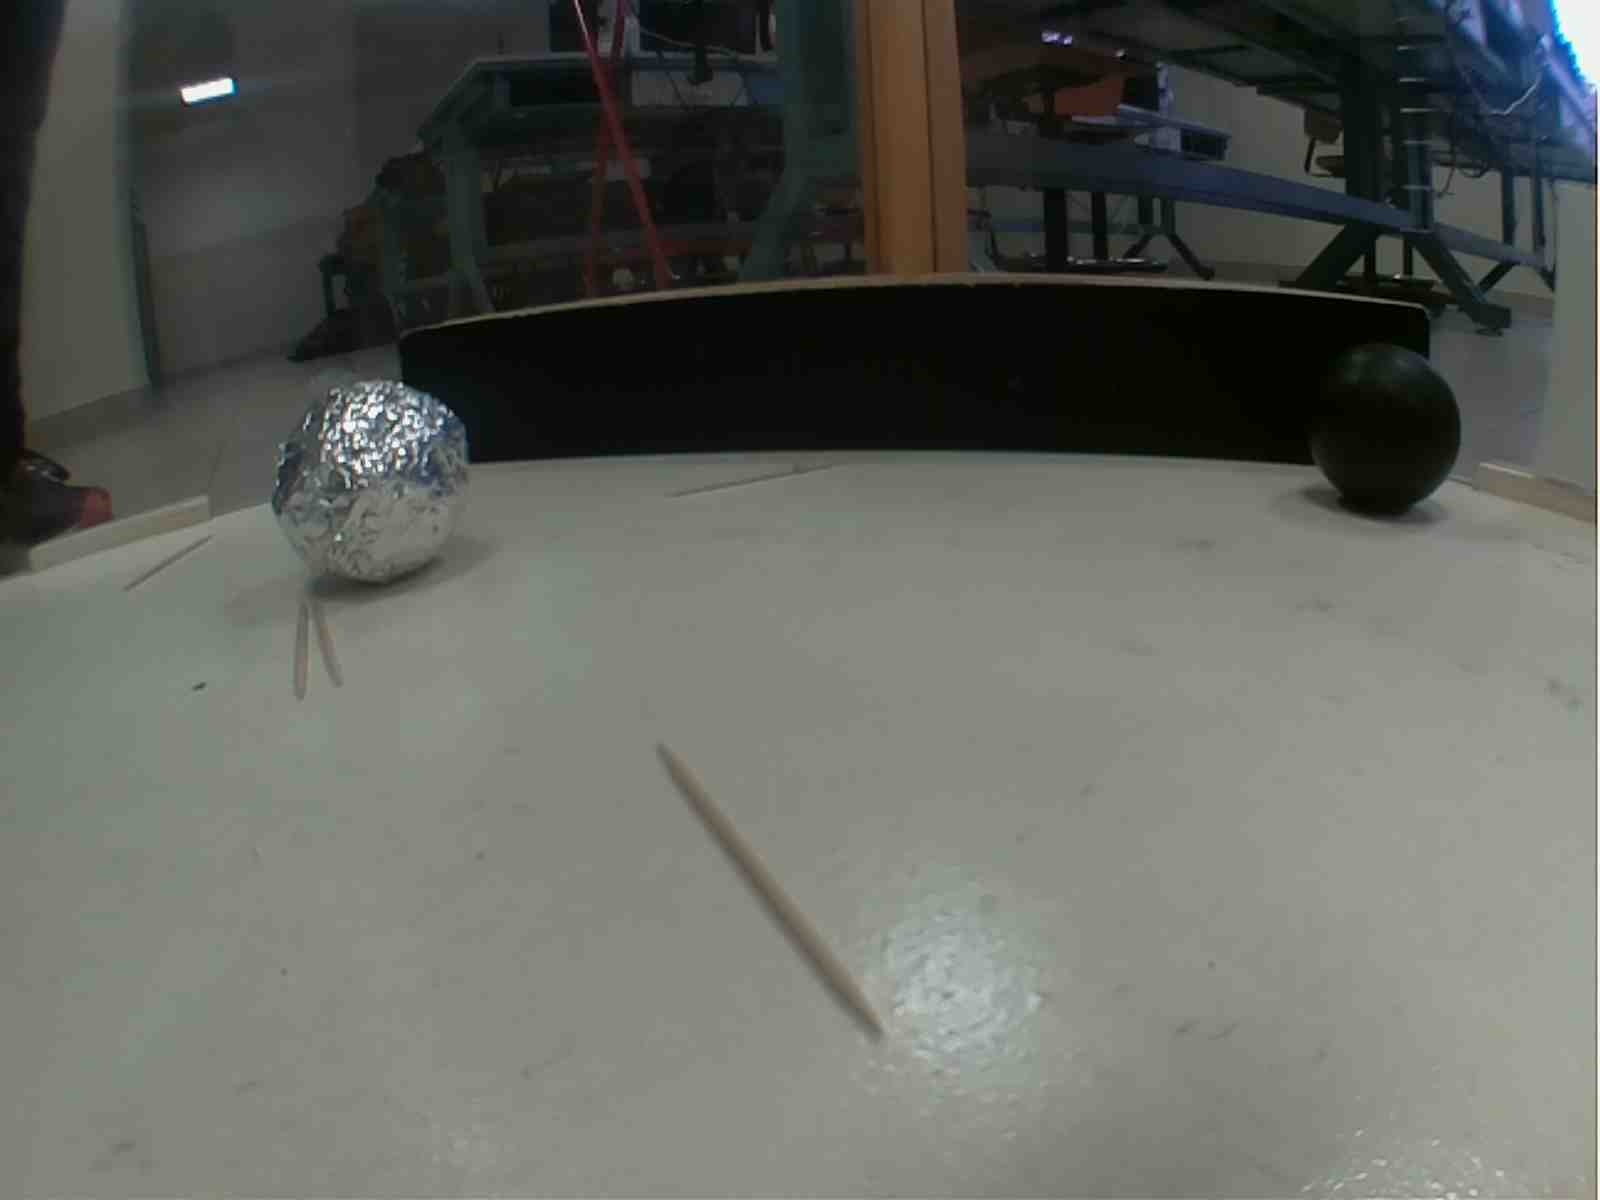bianca: (270, 381, 472, 584)
nera: (1305, 353, 1463, 511)
